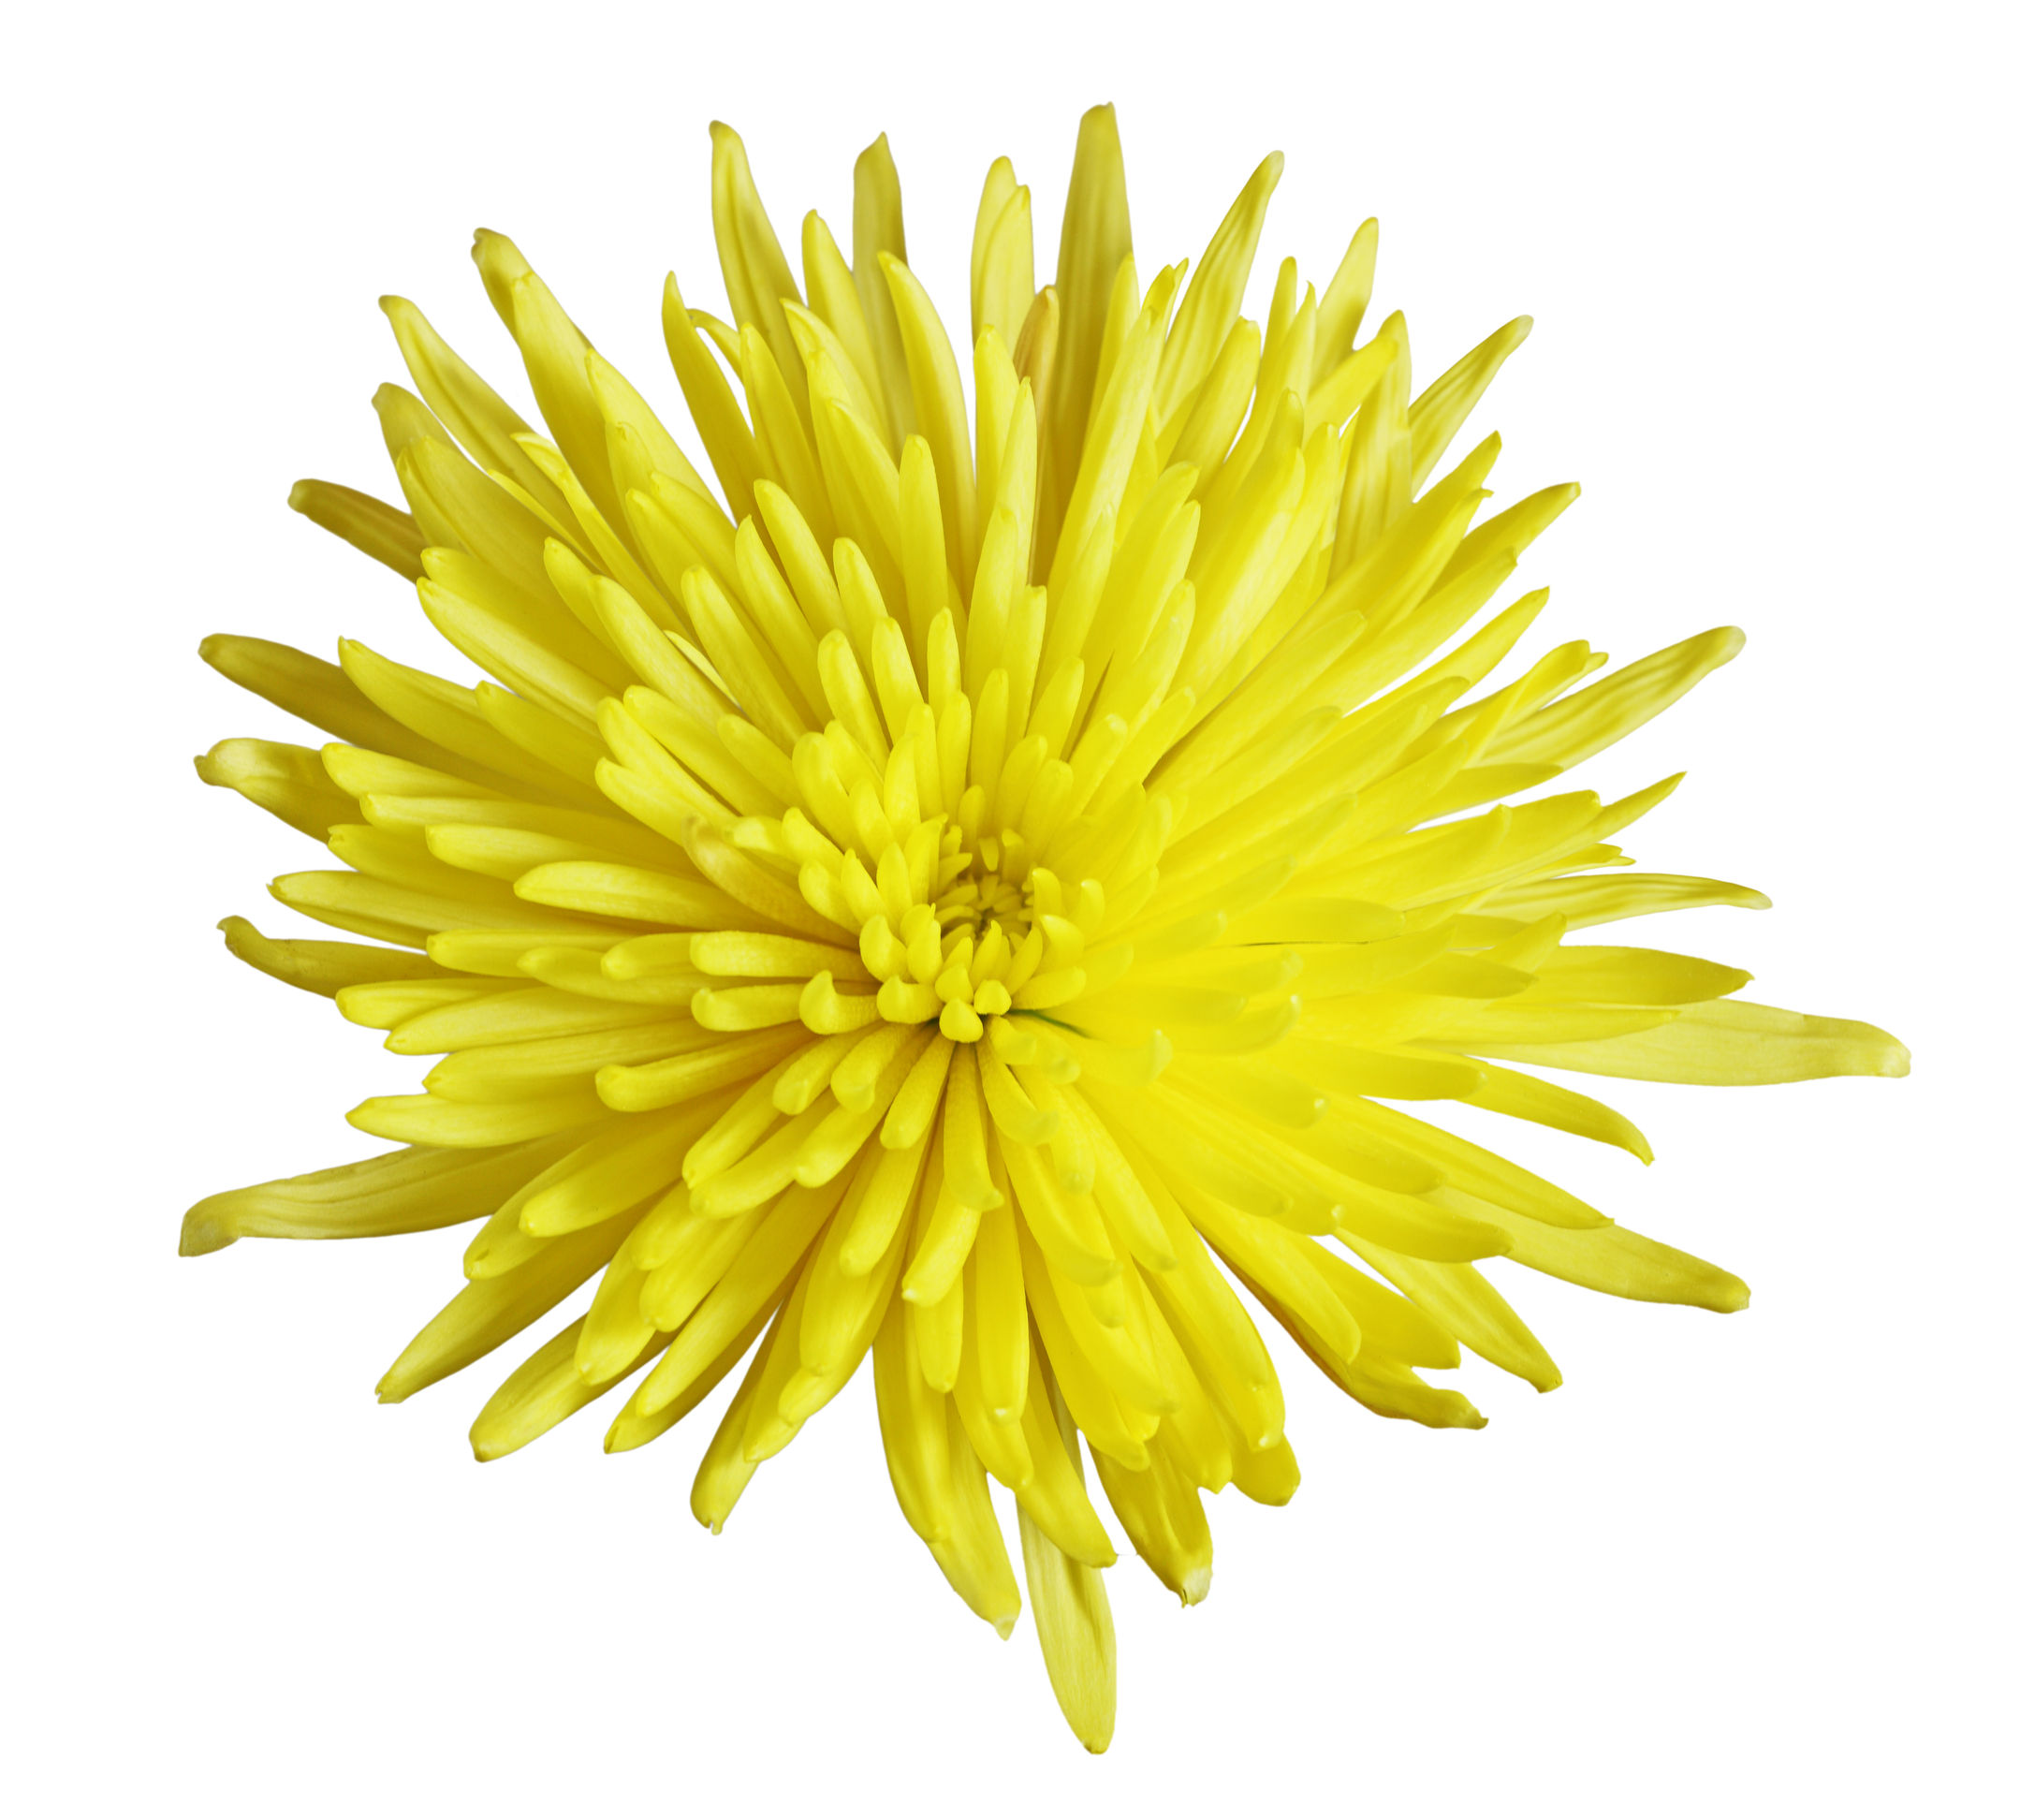dandelion: (184, 207, 1922, 1658)
